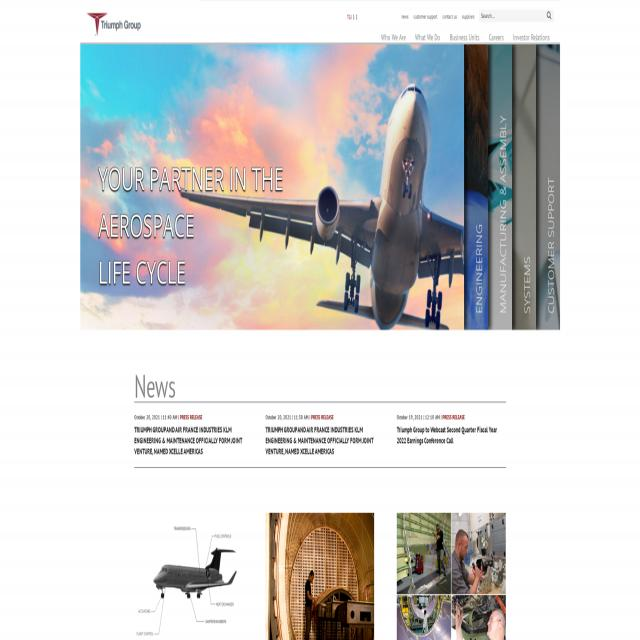button: (132, 507, 247, 640), (396, 511, 506, 640), (265, 513, 374, 640), (86, 13, 141, 37), (546, 10, 552, 20)
field: (479, 10, 554, 22)
